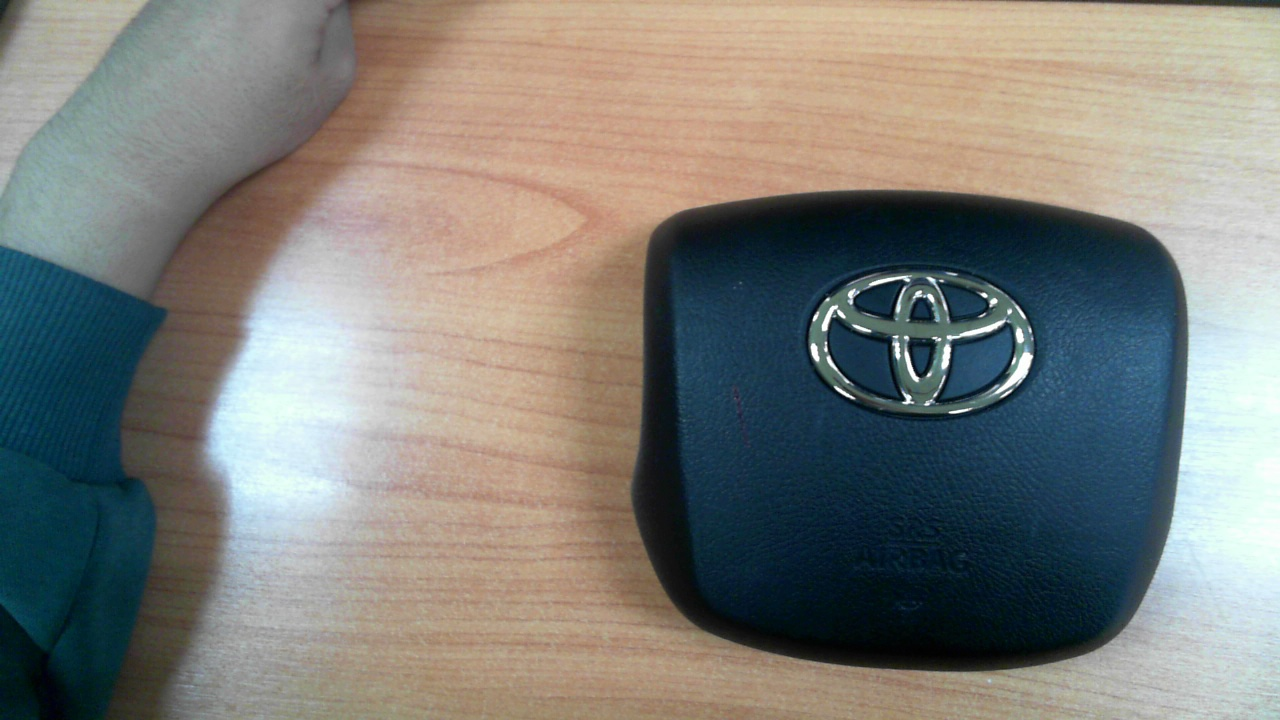Airbag: (631, 195, 1194, 668)
Toyota: (807, 269, 1035, 415)
